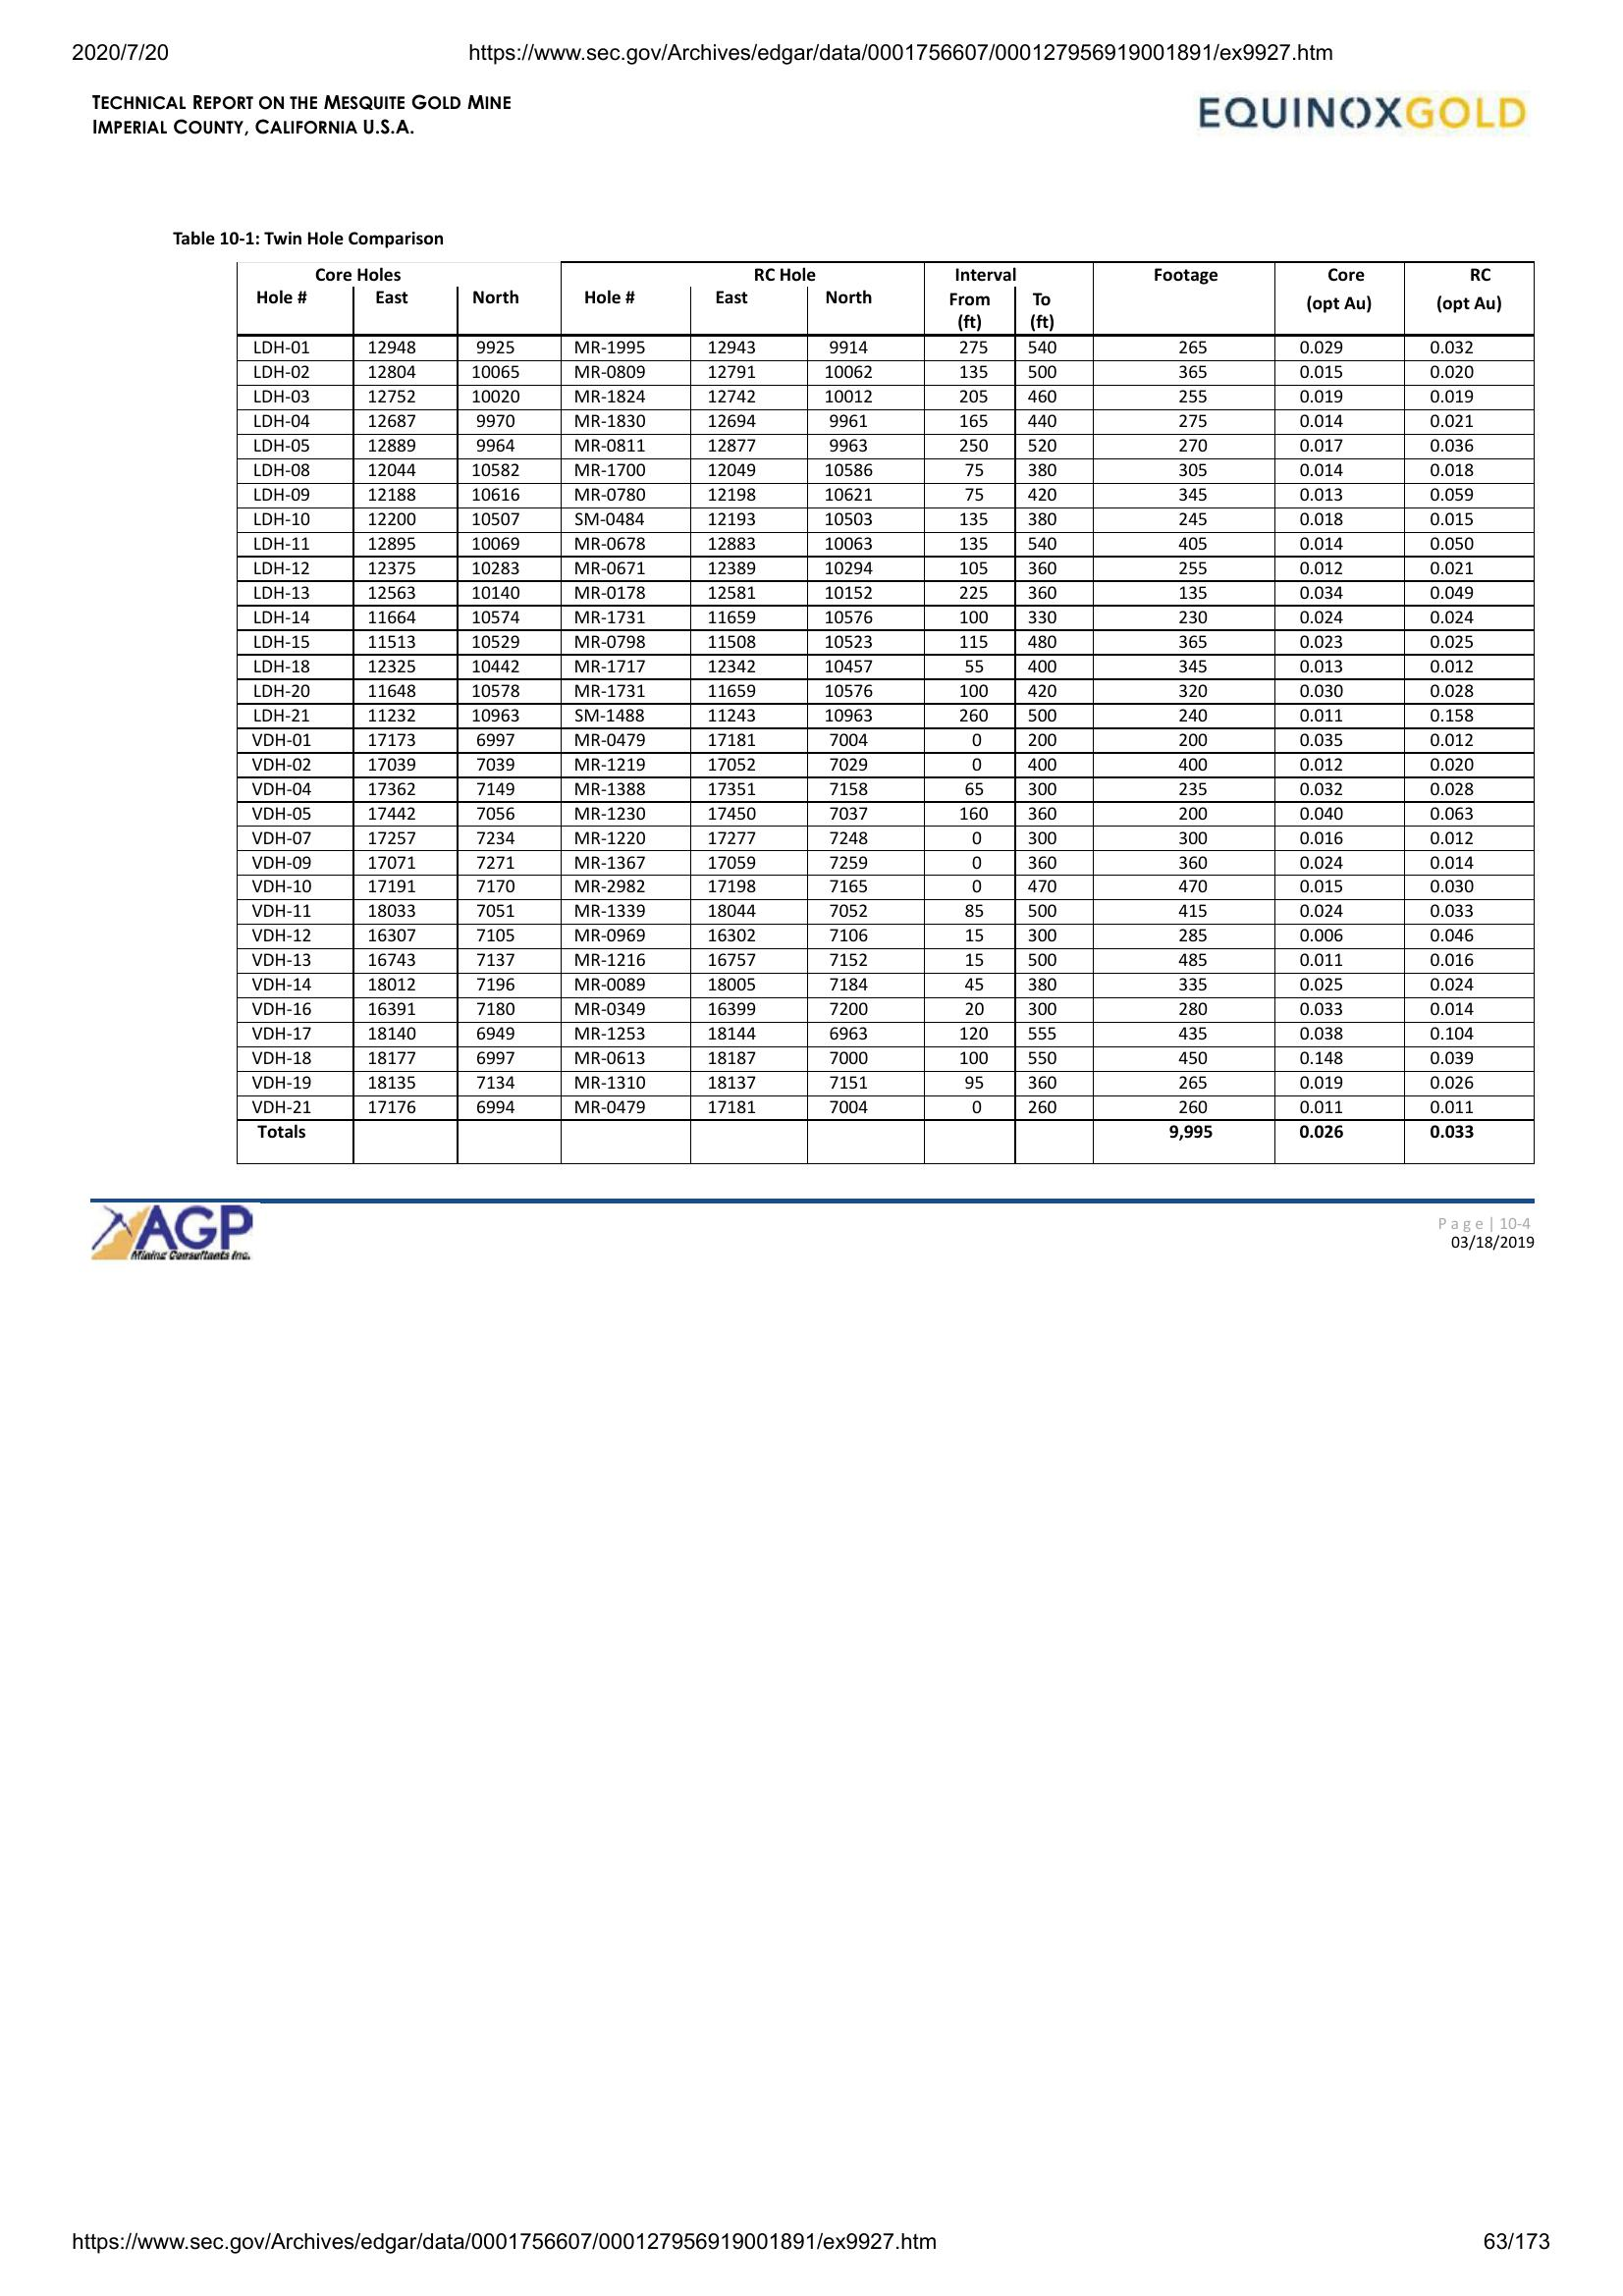table: (227, 253, 1540, 1171)
